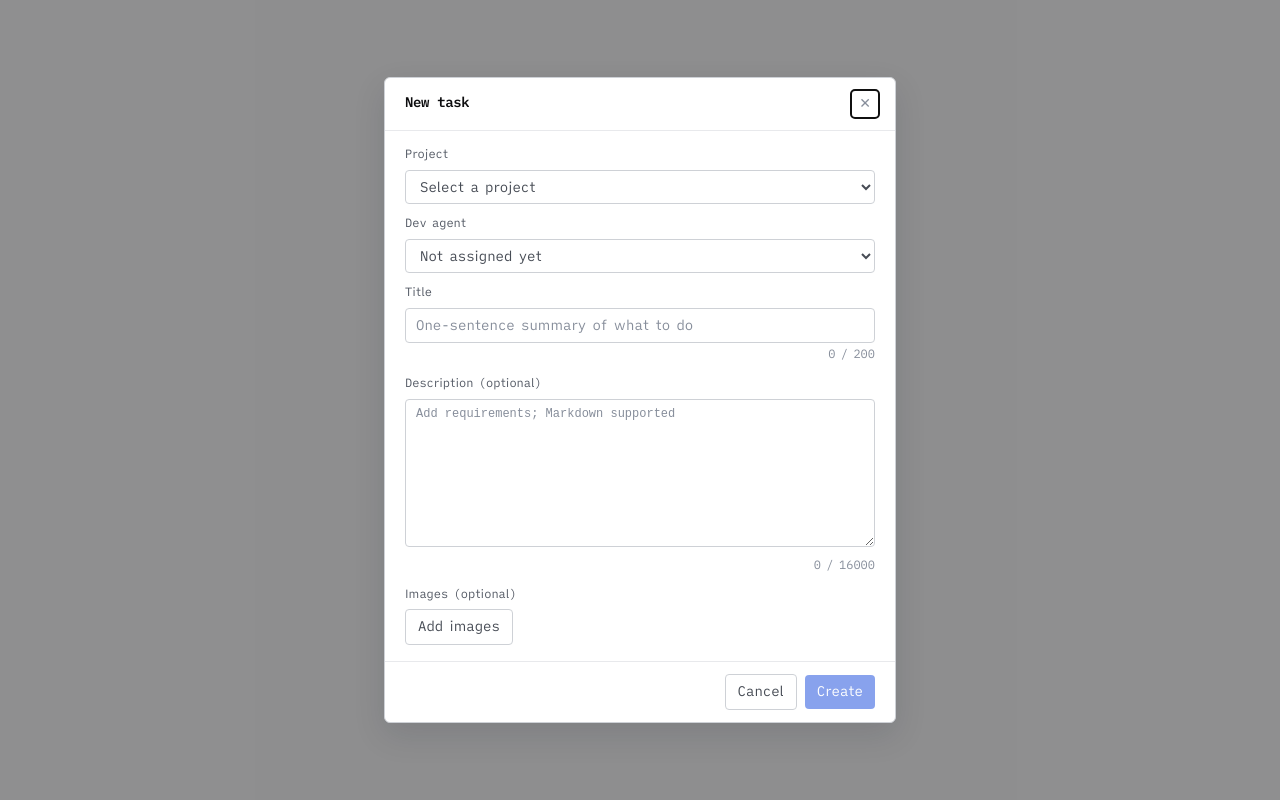
Test: uses localized task fields and explains an unavailable agent in en-US
Select "baxian" in the dropdown labelled "Project" at (640, 187), box [405, 170, 875, 204]
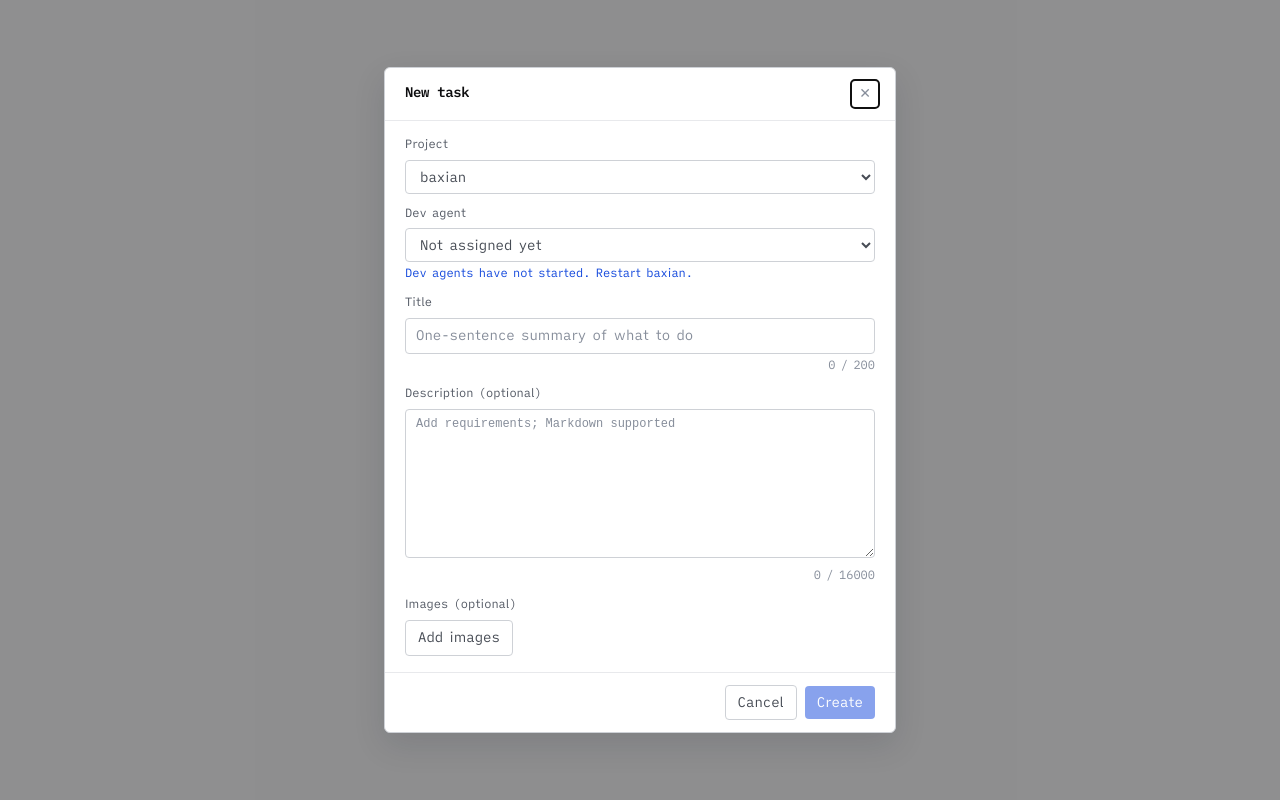
Check: the field labelled "Title" is shown, box [405, 318, 875, 354]
Check: the text "Dev agents have not started. Restart baxian." is shown, box [405, 266, 693, 281]
